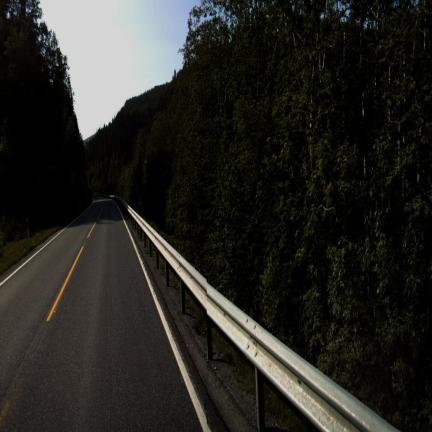Road: (0, 198, 201, 430)
